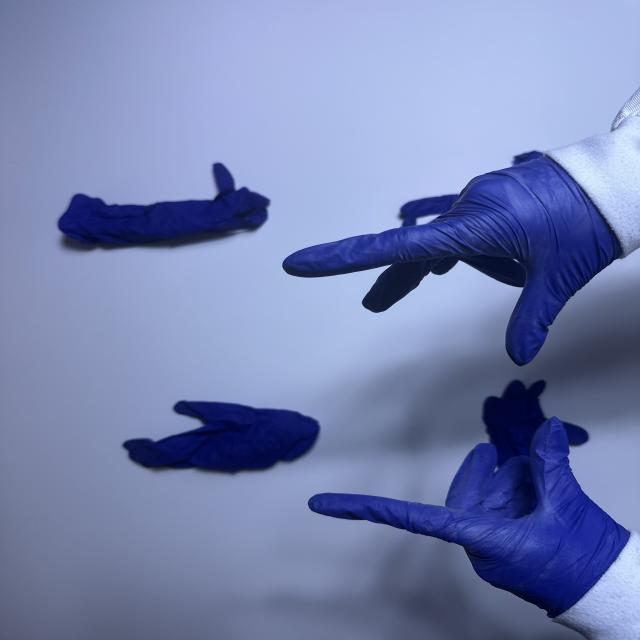gloves_contaminated: (283, 157, 621, 366), (309, 418, 629, 616)
